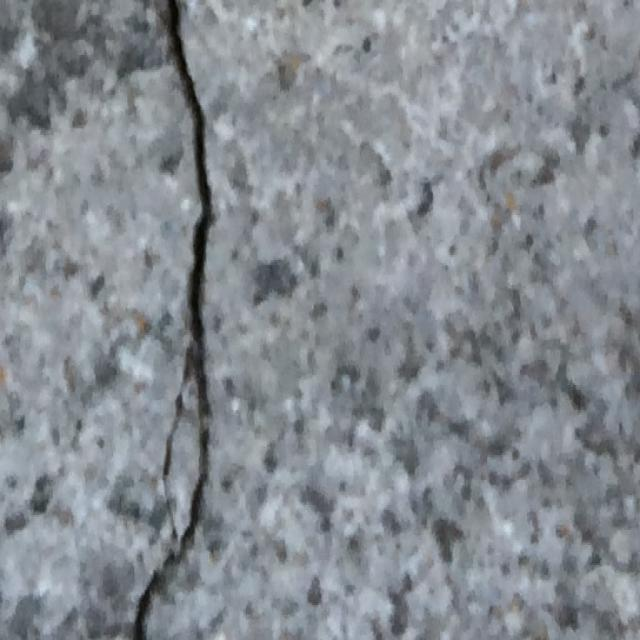crack: (129, 1, 215, 638)
